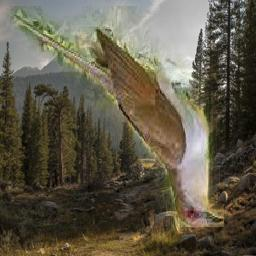Cuckoo: (2, 7, 224, 228)
